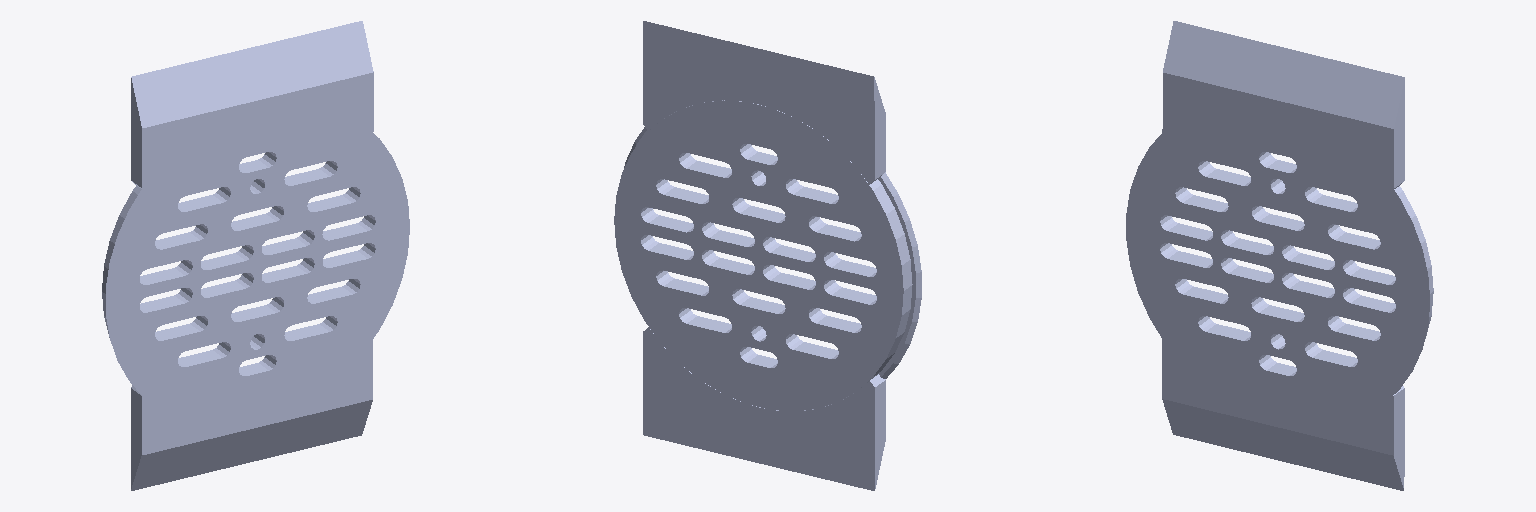
URDF robot description (humancover):
<?xml version="1.0" encoding="utf-8"?>
<!-- This URDF was automatically created by SolidWorks to URDF Exporter! Originally created by [author] ([email redacted]) 
     Commit Version: 1.6.0-4-g7f85cfe  Build Version: 1.6.7995.38578
     For more information, please see http://wiki.ros.org/sw_urdf_exporter -->
<robot
  name="humancover">
  <link
    name="base_link">
    <inertial>
      <origin
        xyz="0.0130722077296431 0.0061268799215675 -0.000468556172875034"
        rpy="0 0 0" />
      <mass
        value="3.19454847212678" />
      <inertia
        ixx="0.0627724300121665"
        ixy="-4.33005869170986E-05"
        ixz="7.24213169902427E-20"
        iyy="0.0319479383245792"
        iyz="1.35525271560688E-19"
        izz="0.0943863850311392" />
    </inertial>
    <visual>
      <origin
        xyz="0 0 0"
        rpy="0 0 0" />
      <geometry>
        <mesh
          filename="package://humancover/meshes/base_link.STL" />
      </geometry>
      <material
        name="">
        <color
          rgba="0.792156862745098 0.819607843137255 0.933333333333333 1" />
      </material>
    </visual>
    <collision>
      <origin
        xyz="0 0 0"
        rpy="0 0 0" />
      <geometry>
        <mesh
          filename="package://humancover/meshes/base_link.STL" />
      </geometry>
    </collision>
  </link>
</robot>

--- Facts derived from the render (not from the file) ---
3 views of the same robot in one strip: view 1: azimuth 30°, elevation 25°; view 2: azimuth 150°, elevation 25°; view 3: azimuth 330°, elevation 25° (orthographic).
Robot: humancover — 1 links, 0 joints (none); root link base_link; default pose: all joints at 0.
Visible links, largest first — view 1: base_link; view 2: base_link; view 3: base_link.
Boxes of the visible links, box(x1,y1,x2,y2) form: base_link: box(102, 21, 409, 490); base_link: box(614, 21, 921, 490); base_link: box(1126, 21, 1433, 490).
Bounding box of the posed robot: 0.3994 × 0.025 × 0.5204 m (x, y, z).
1 mesh visuals loaded from 1 distinct referenced files (1 binary STL).